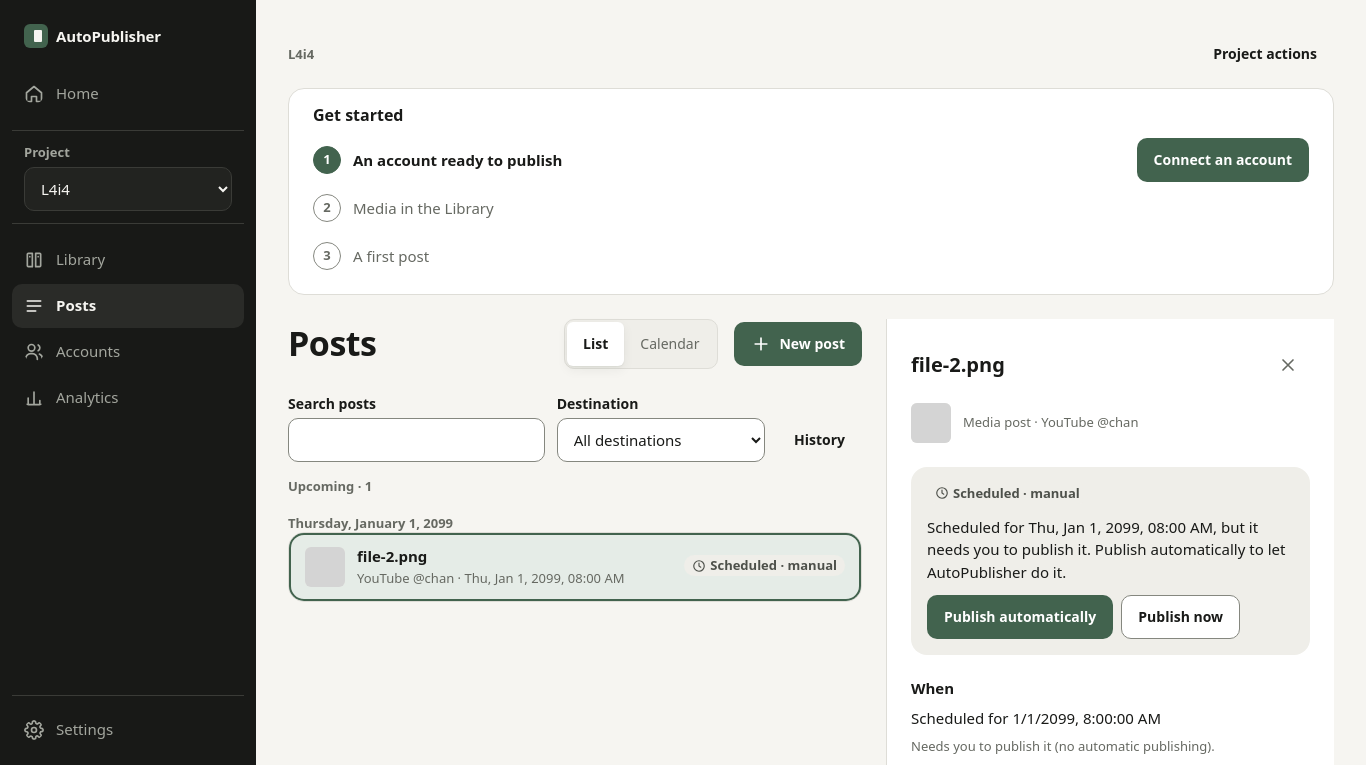
Scenario: Publish automatically arms a legacy manual schedule
The width and height of the screenshot is (1366, 765).
Click the button "Publish automatically". click: (1020, 617)
box: [927,595,1113,639]
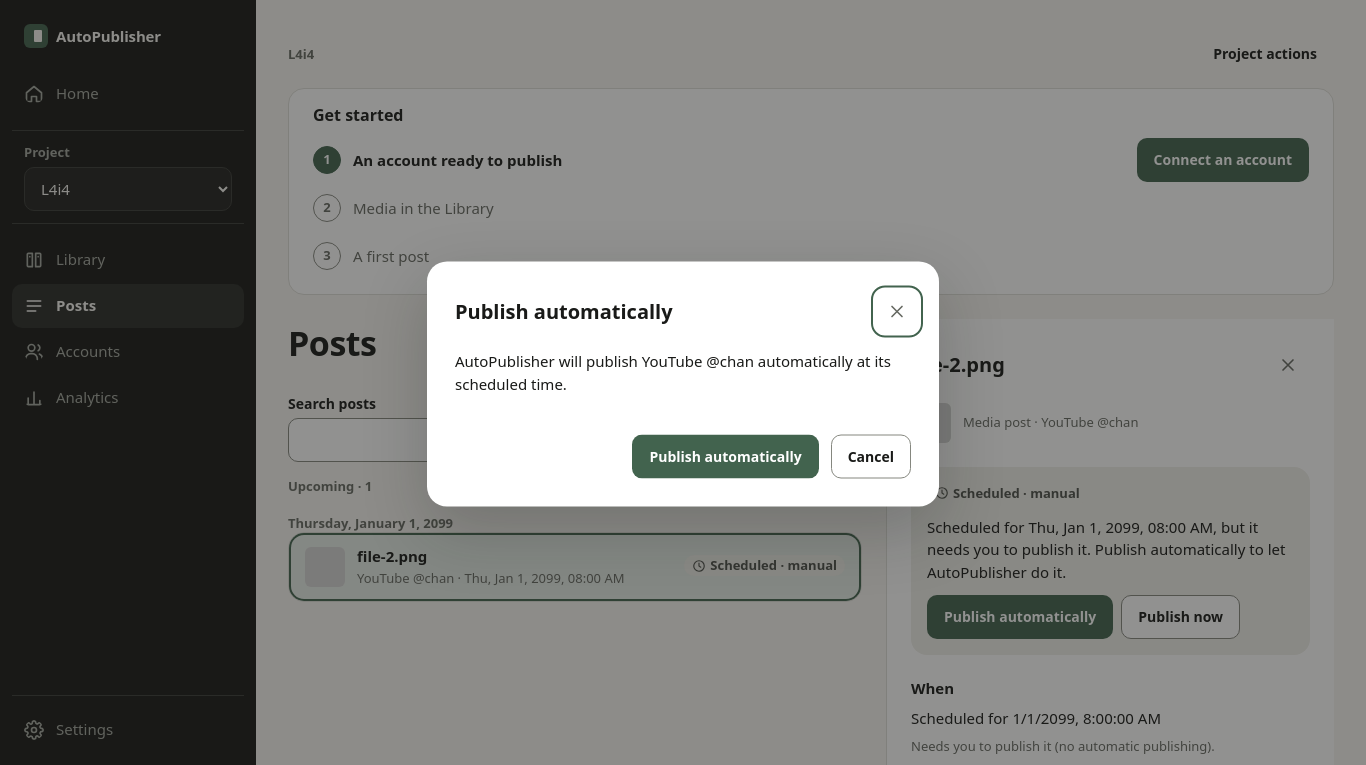
Click the button "Publish automatically". click: (726, 456)
box: [632,434,819,478]
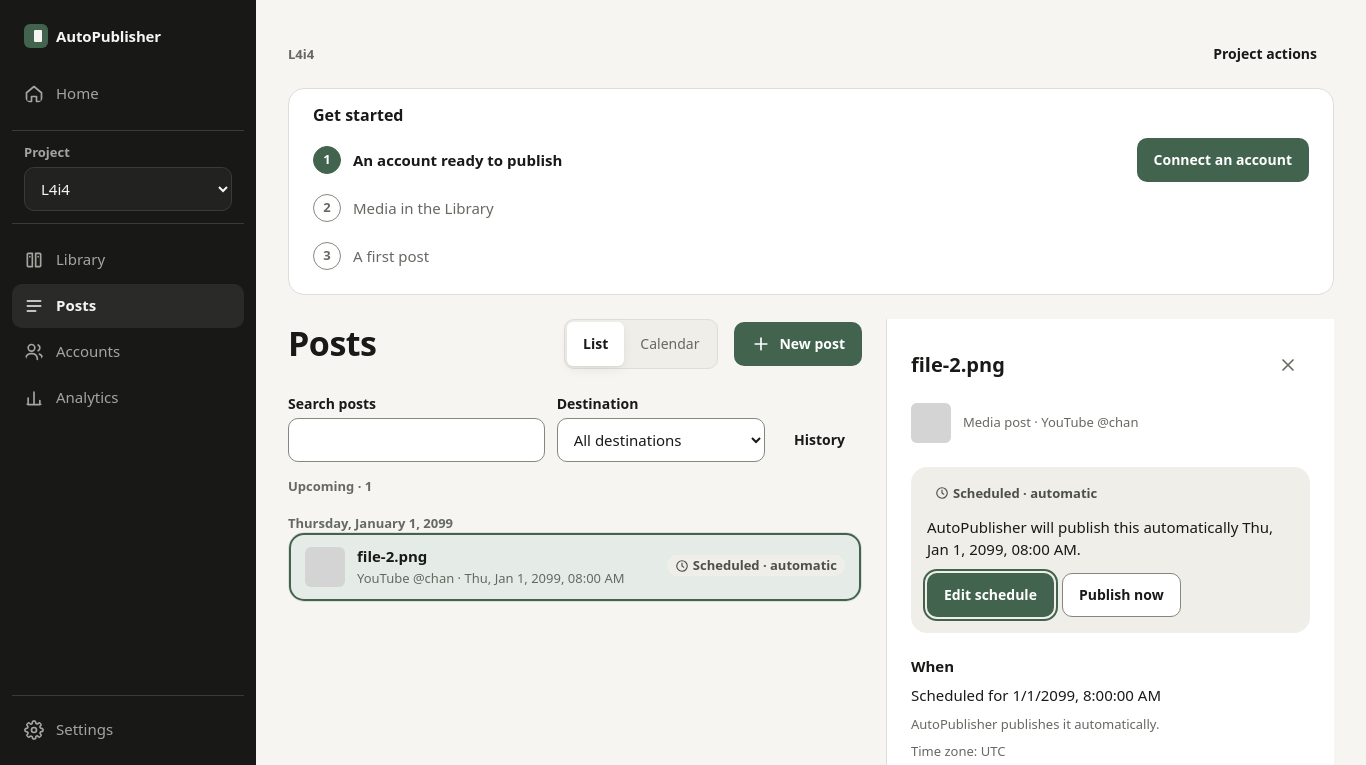
Result: the text "Scheduled · automatic" below "Media post" is shown at [953,484,1097,502]
